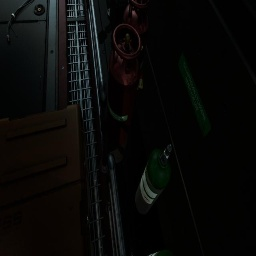0: (135, 144, 172, 214), (147, 250, 175, 256)
NitrogenTank ,: (106, 23, 142, 163), (121, 0, 151, 119)
